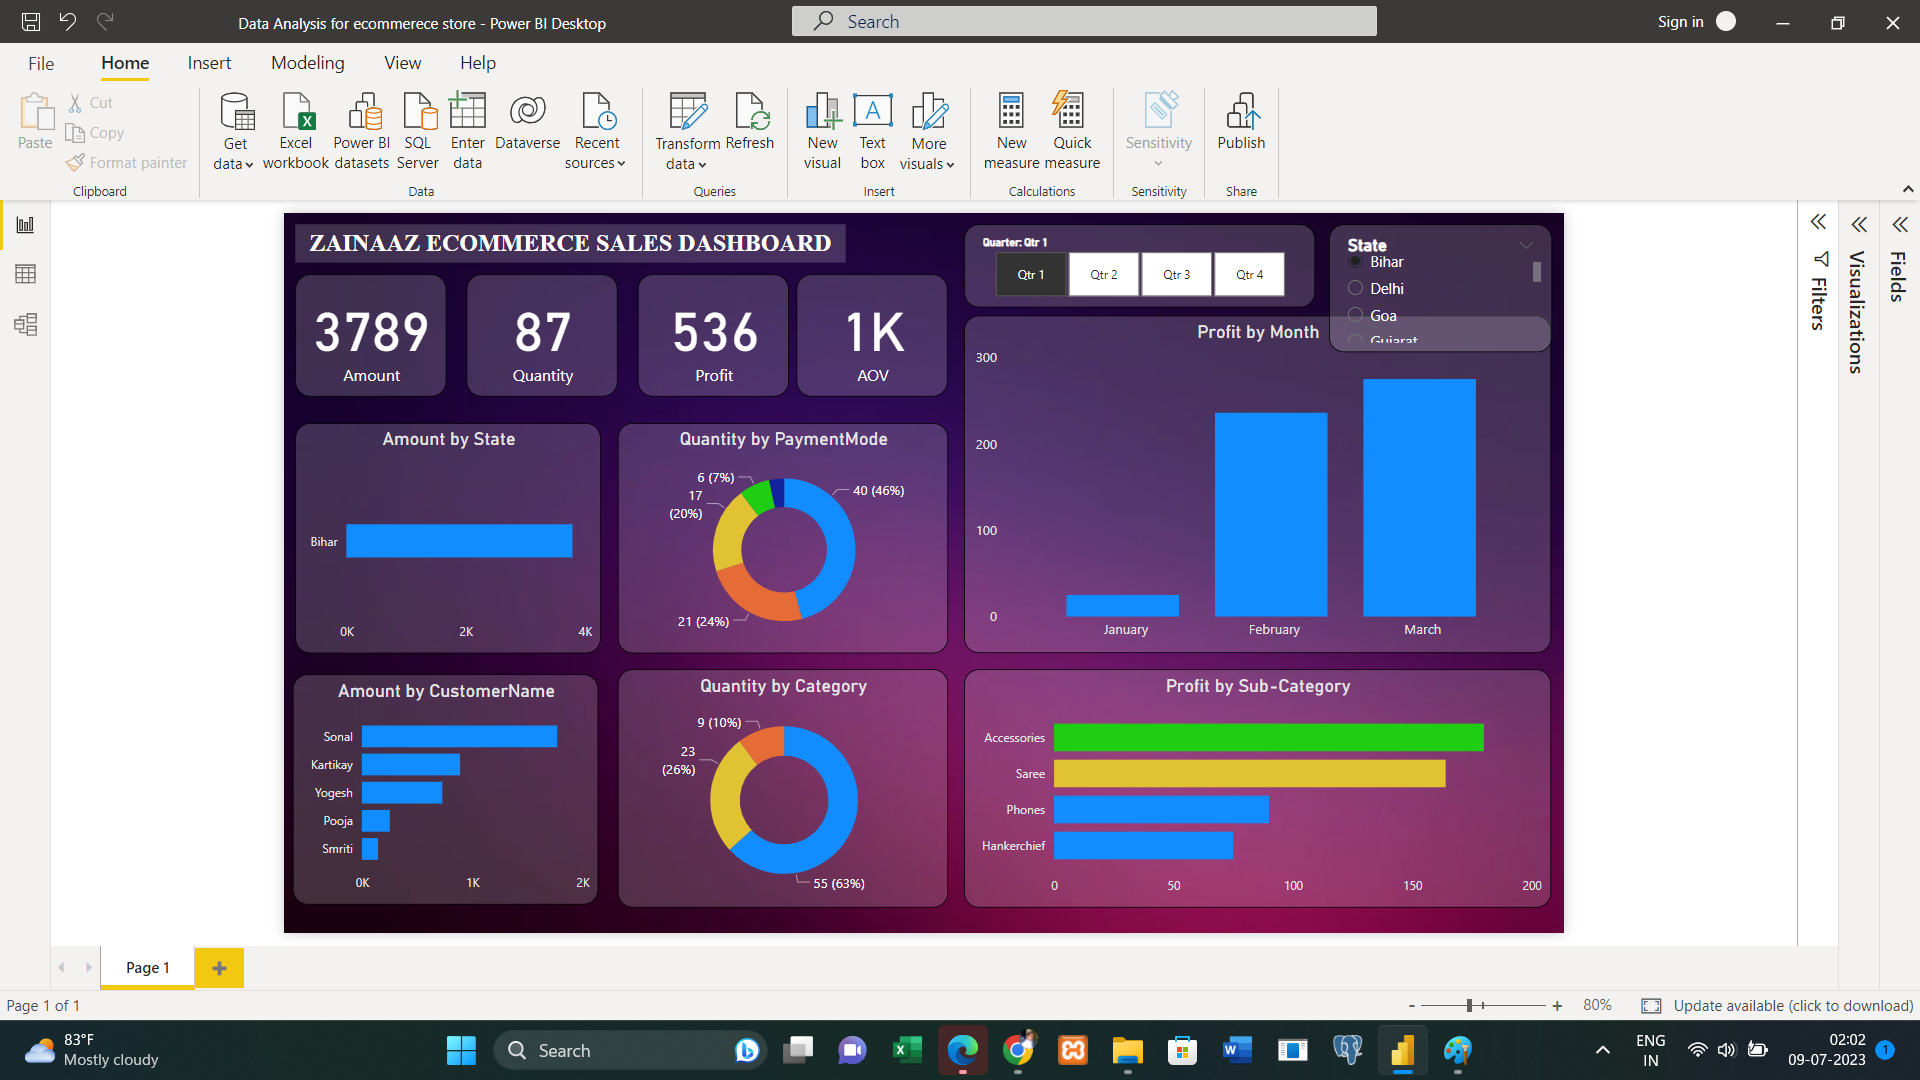

This screenshot's page, from the dashboard's own definition file:
{"tool":"powerbi","page":{"name":"Page 1","canvas":[1280,720],"ordinal":0},"visuals":[{"type":"columnChart","fields":{"Y":["Details.Profit"],"Category":["Orders.Order Date.Variation.Date Hierarchy.Month"]},"box":[680.5,102.9,587.2,337.5],"z":0},{"type":"textbox","box":[11,11,550.1,38.4],"z":1000},{"type":"barChart","fields":{"Category":["Details.Sub-Category"],"Y":["Details.Profit"]},"box":[680.5,456.8,587.2,238.7],"z":2000},{"type":"donutChart","fields":{"Category":["Details.Category"],"Y":["Details.Quantity"]},"box":[333.4,456.8,330.6,238.7],"z":3000},{"type":"donutChart","fields":{"Y":["Details.Quantity"],"Category":["Details.PaymentMode"]},"box":[333.4,209.9,330.6,230.5],"z":4000},{"type":"card","fields":{"Values":["Details.Amount"]},"box":[11,61.7,150.9,122.1],"z":5000},{"type":"card","fields":{"Values":["Details.Quantity"]},"box":[182.5,61.7,150.9,122.1],"z":6000},{"type":"card","fields":{"Values":["Details.Profit"]},"box":[354,61.7,150.9,122.1],"z":7000},{"type":"card","fields":{"Values":["Details.AOV"]},"box":[513.1,61.7,150.9,122.1],"z":8000},{"type":"barChart","fields":{"Category":["Orders.State"],"Y":["Details.Amount"]},"box":[11,209.9,305.9,230.5],"z":9000},{"type":"barChart","fields":{"Y":["Details.Amount"],"Category":["Orders.CustomerName"]},"box":[8.2,461,305.9,230.5],"z":10000},{"type":"slicer","fields":{"Values":["Orders.Order Date.Variation.Date Hierarchy.Quarter"]},"box":[680.2,10.9,351,83.2],"z":11000},{"type":"slicer","fields":{"Values":["Orders.State"]},"box":[1044.4,10.9,223.1,127.8],"z":12000}]}

Visuals, with their boxes on the page's 1280x720 design canvas (x1, y1, x2, y2). These are canvas units, not pixel positions in the 1920x1080 screenshot, which may show the page scaled, cropped or inside an application window:
columnChart - Details.Profit x Orders.Order Date.Variation.Date Hierarchy.Month: locate(680, 103, 1268, 440)
textbox: locate(11, 11, 561, 49)
barChart - Details.Sub-Category x Details.Profit: locate(680, 457, 1268, 696)
donutChart - Details.Category x Details.Quantity: locate(333, 457, 664, 696)
donutChart - Details.Quantity x Details.PaymentMode: locate(333, 210, 664, 440)
card - Details.Amount: locate(11, 62, 162, 184)
card - Details.Quantity: locate(182, 62, 333, 184)
card - Details.Profit: locate(354, 62, 505, 184)
card - Details.AOV: locate(513, 62, 664, 184)
barChart - Orders.State x Details.Amount: locate(11, 210, 317, 440)
barChart - Details.Amount x Orders.CustomerName: locate(8, 461, 314, 692)
slicer - Orders.Order Date.Variation.Date Hierarchy.Quarter: locate(680, 11, 1031, 94)
slicer - Orders.State: locate(1044, 11, 1268, 139)
